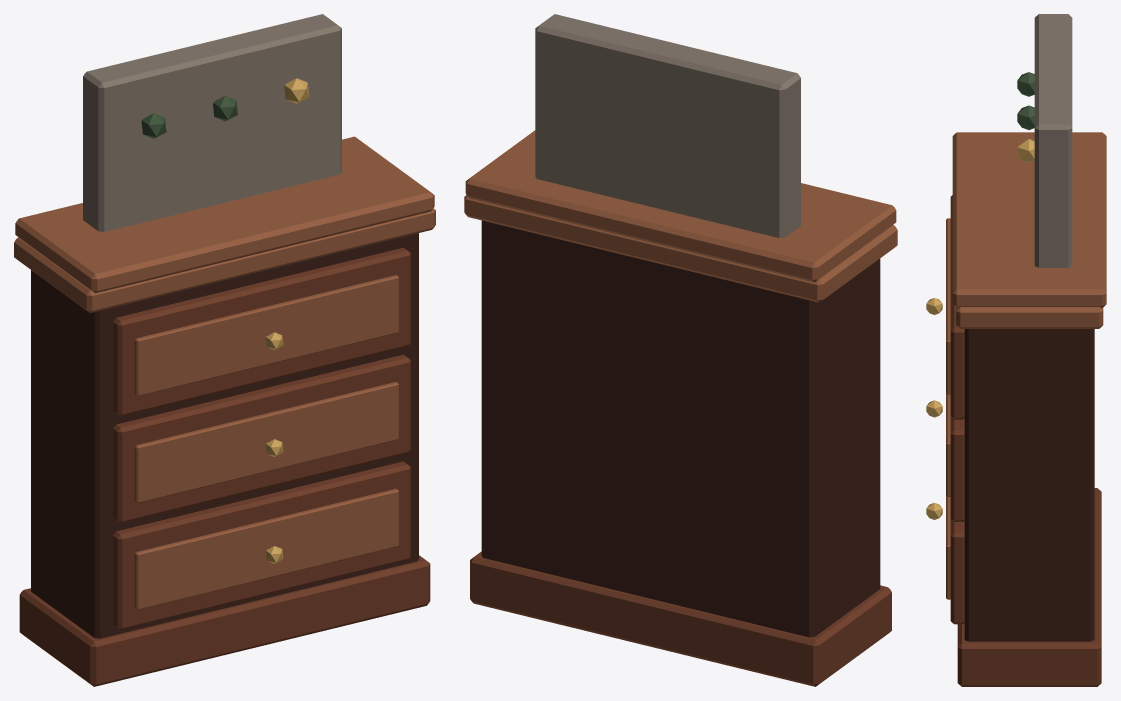
File: record_station_02.glb
3 renders of one model, left to right at view 1: azimuth 30°, elevation 25°; view 2: azimuth 150°, elevation 25°; view 3: azimuth 270°, elevation 25°, orthographic. The views are drawn at different scales.
Parts seen in each view (by area): view 1: Case, Panel, Case_Body, Top, Case_Plinth, Case_Top; view 2: Case_Body, Panel, Case_Plinth, Top, Case_Top; view 3: Case_Body, Top, Panel, Case_Plinth, Case, Case_Top, Signal_001, Signal, Signal_002.
Part boxes in pixels (x1=…): Case: x1=113, y1=247, x2=410, y2=629; Panel: x1=83, y1=14, x2=341, y2=231; Case_Body: x1=31, y1=233, x2=418, y2=638; Top: x1=15, y1=136, x2=434, y2=293; Case_Plinth: x1=19, y1=555, x2=430, y2=686; Case_Top: x1=14, y1=208, x2=435, y2=313; Case_Body: x1=481, y1=220, x2=880, y2=637; Panel: x1=535, y1=14, x2=800, y2=237; Case_Plinth: x1=470, y1=551, x2=891, y2=686; Top: x1=465, y1=130, x2=896, y2=282; Case_Top: x1=464, y1=195, x2=897, y2=302; Case_Body: x1=964, y1=329, x2=1094, y2=641; Top: x1=952, y1=132, x2=1106, y2=307; Panel: x1=1034, y1=14, x2=1072, y2=267; Case_Plinth: x1=957, y1=488, x2=1101, y2=686; Case: x1=926, y1=195, x2=964, y2=624; Case_Top: x1=956, y1=307, x2=1103, y2=328; Signal_001: x1=1017, y1=105, x2=1034, y2=129; Signal: x1=1017, y1=72, x2=1034, y2=96; Signal_002: x1=1017, y1=139, x2=1034, y2=163.
Bounding box in the file's own units: 1.13 × 1.74 × 0.5268.
